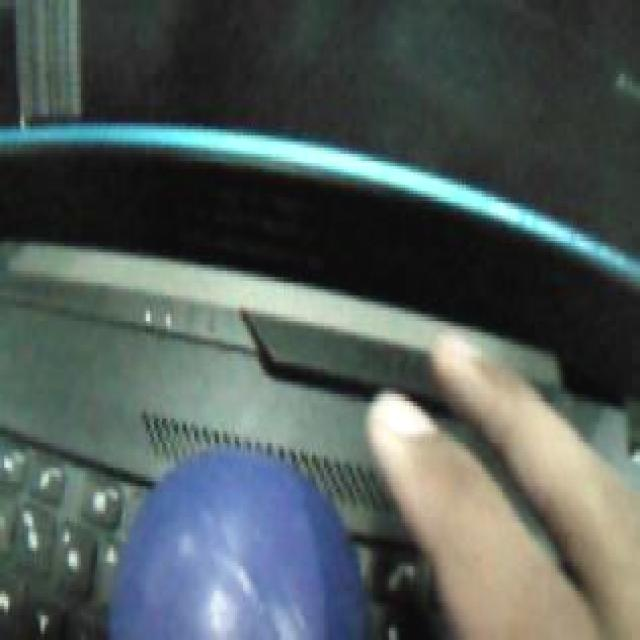BallPurple: (111, 446, 366, 640)
